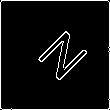N_SW: (23, 23, 87, 87)
